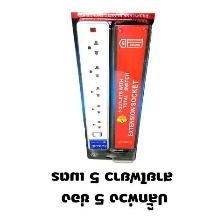book: (64, 7, 157, 164)
three_eye_plug: (73, 17, 112, 152)
